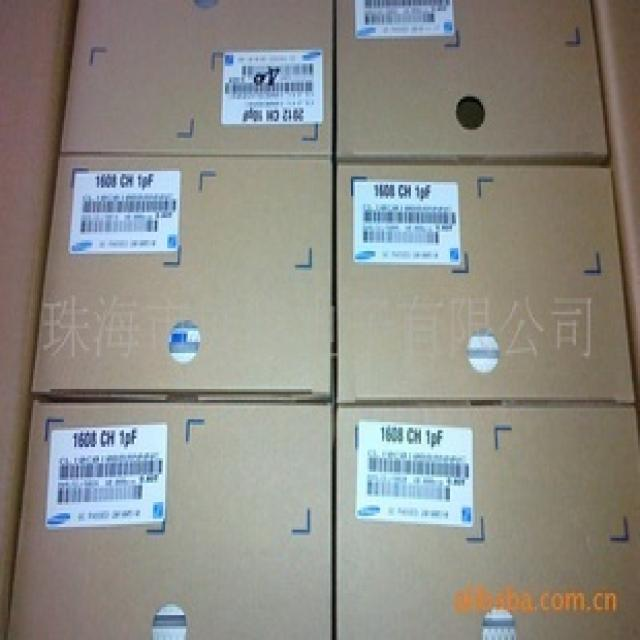Carton: (332, 168, 638, 637), (58, 6, 603, 157), (8, 400, 328, 637), (27, 157, 330, 389)
